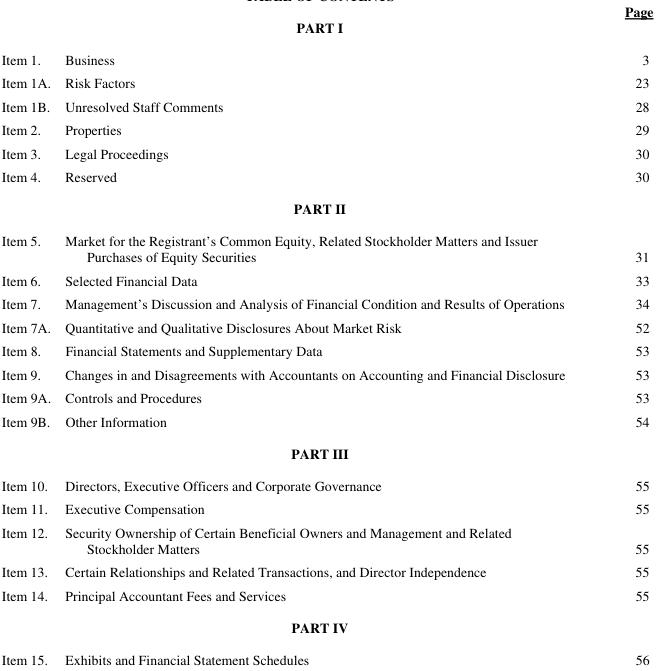table: (0, 1, 652, 667)
table column: (57, 1, 594, 667), (594, 1, 652, 667), (0, 1, 57, 667)
table column header: (0, 1, 652, 42)
table row: (0, 224, 652, 267), (0, 1, 652, 42), (0, 519, 652, 559), (0, 191, 652, 224), (0, 610, 652, 643), (0, 436, 652, 468), (0, 408, 652, 436), (0, 468, 652, 496), (0, 582, 652, 610), (0, 42, 652, 69), (0, 164, 652, 191), (0, 69, 652, 93), (0, 93, 652, 117), (0, 140, 652, 164), (0, 267, 652, 291), (0, 314, 652, 338), (0, 361, 652, 385), (0, 643, 652, 667), (0, 117, 652, 140), (0, 291, 652, 314), (0, 338, 652, 361), (0, 385, 652, 408), (0, 496, 652, 519), (0, 559, 652, 582)
table spanning cell: (0, 582, 57, 643), (0, 164, 57, 224), (0, 408, 57, 468)
